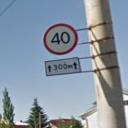speed_limit_40: (40, 19, 81, 56)
